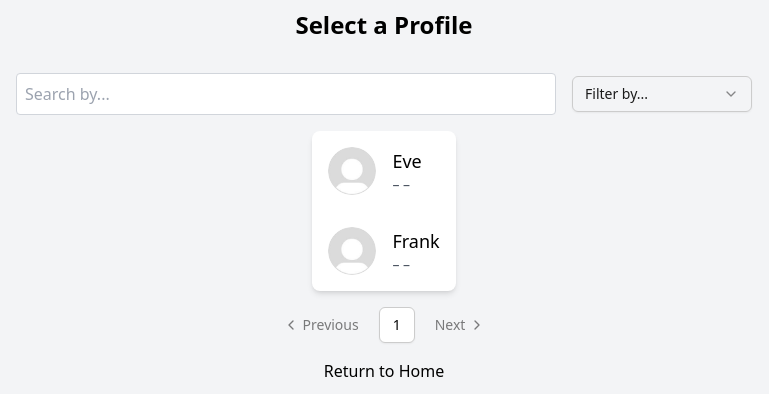
Test: StudentList › filters profiles by search query
The image size is (769, 394).
Expected: the text "Eve" is shown, [392,147,422,175]
Type "fra" into the field with placeholder "Search by...".
click(286, 94); type("fra")  # box [16,73,556,115]
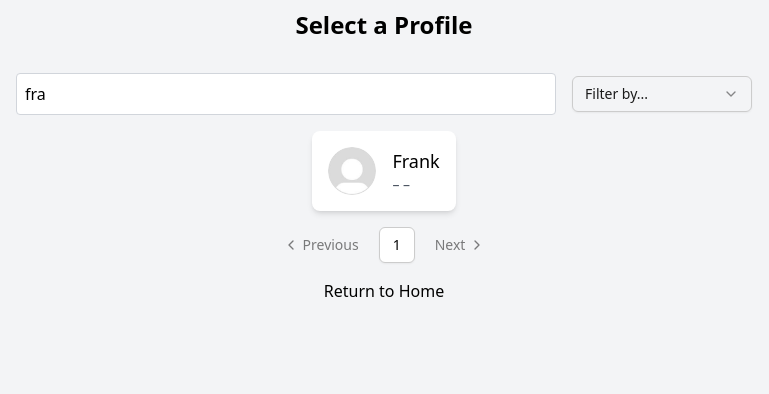
Now the button "Eve" is gone
Now the text "Frank" is shown, box [392,147,440,175]
